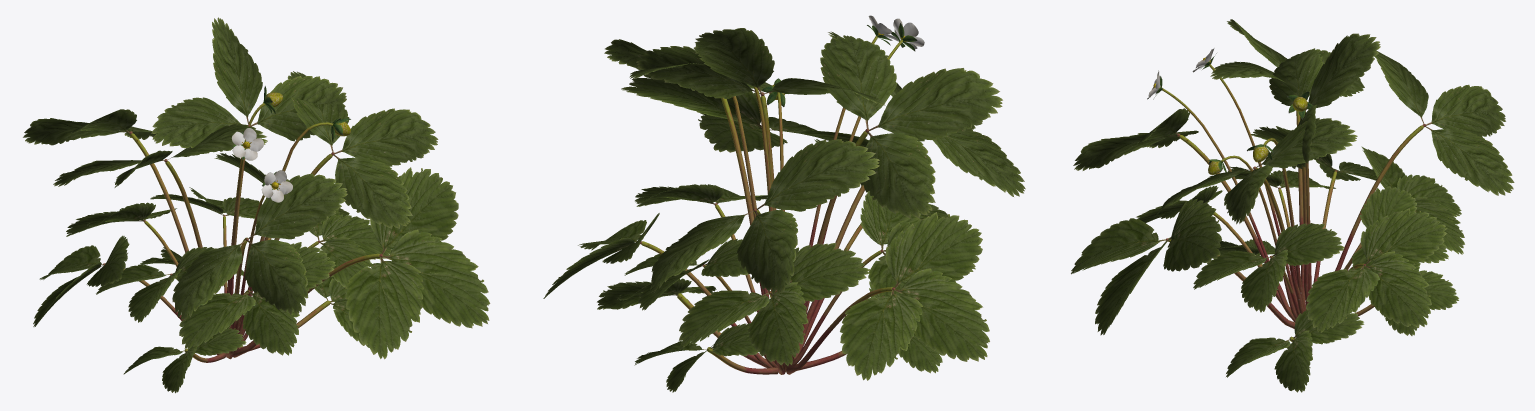
The picture shows the model from 3 angles, left to right: view 1: azimuth 30°, elevation 25°; view 2: azimuth 150°, elevation 25°; view 3: azimuth 270°, elevation 25°; orthographic projection. The views are drawn at different scales.
Parts seen in each view (by area): view 1: leaf2, leaf1, branch1, flower1; view 2: leaf2, leaf1, branch1, flower1, leaf3; view 3: leaf2, leaf1, branch1, fruit2, leaf3.
Boxes of the visible parts, box(x1,y1,x2,y2) form: leaf2: box(33, 153, 490, 393); leaf1: box(23, 17, 438, 320); branch1: box(103, 103, 382, 362); flower1: box(231, 128, 292, 202); leaf2: box(543, 74, 989, 392); leaf1: box(604, 28, 1025, 294); branch1: box(640, 35, 902, 374); flower1: box(868, 15, 924, 49); leaf3: box(696, 23, 917, 106); leaf2: box(1071, 126, 1464, 392); leaf1: box(1073, 19, 1514, 224); branch1: box(1162, 64, 1425, 341); fruit2: box(1208, 97, 1307, 174); leaf3: box(1153, 53, 1312, 172).
Bounding box in the file's own units: 0.5248 × 0.5657 × 0.4196.
